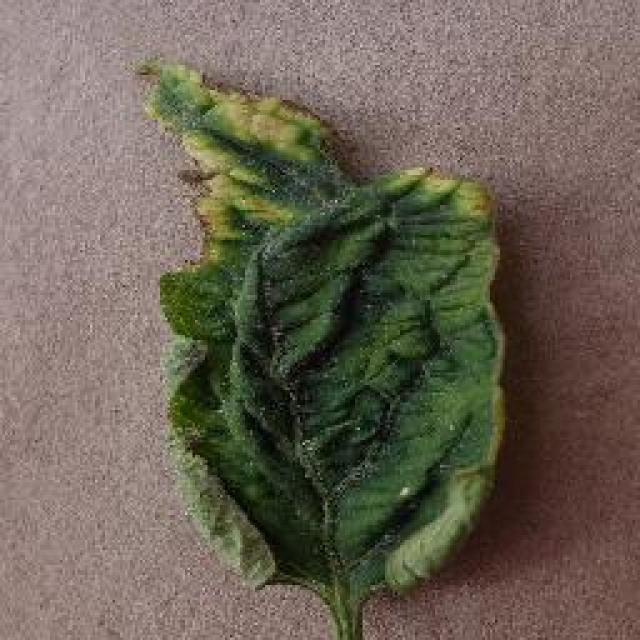Tomato yellow virus leaf: (132, 53, 512, 595)
